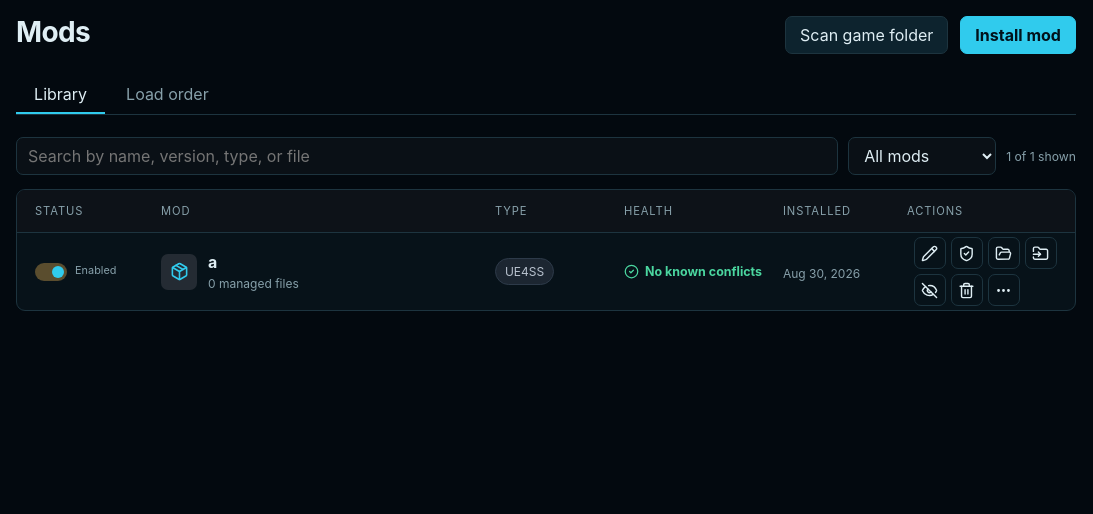
Test case: load-order scope › explains the empty view rather than looking like the mods were lost
Click the tab "Load order".
click(167, 95)  # box left=108, top=76, right=227, bottom=114
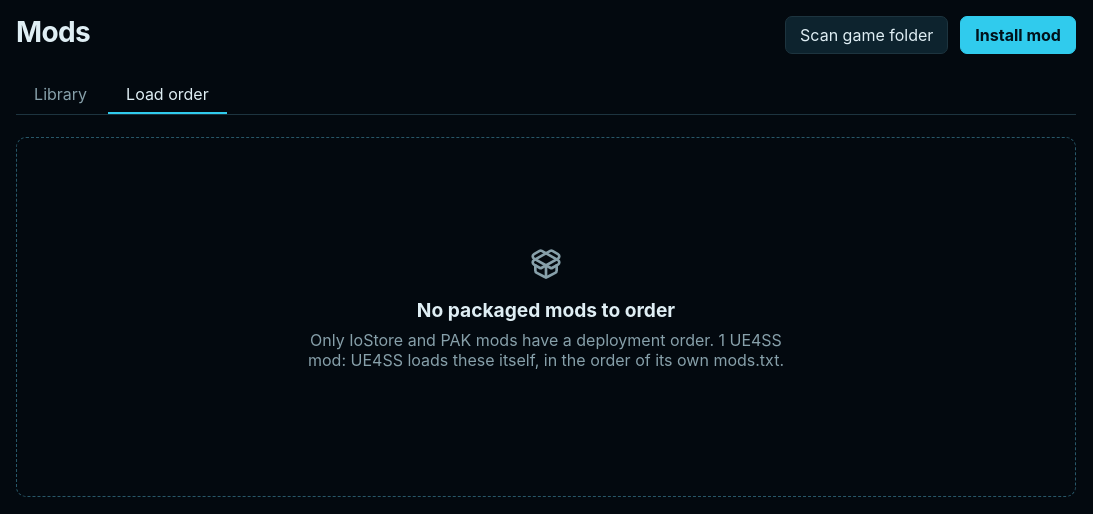
Expected: the text "1 UE4SS mod:" is shown, left=308, top=330, right=784, bottom=370
